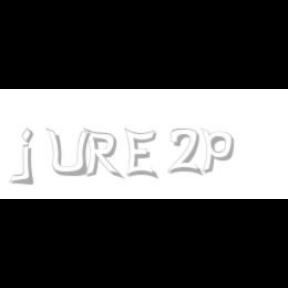2: (167, 128, 201, 176)
E: (124, 128, 158, 180)
R: (83, 128, 121, 180)
U: (46, 128, 90, 178)
j: (18, 128, 48, 186)
p: (200, 128, 237, 174)
